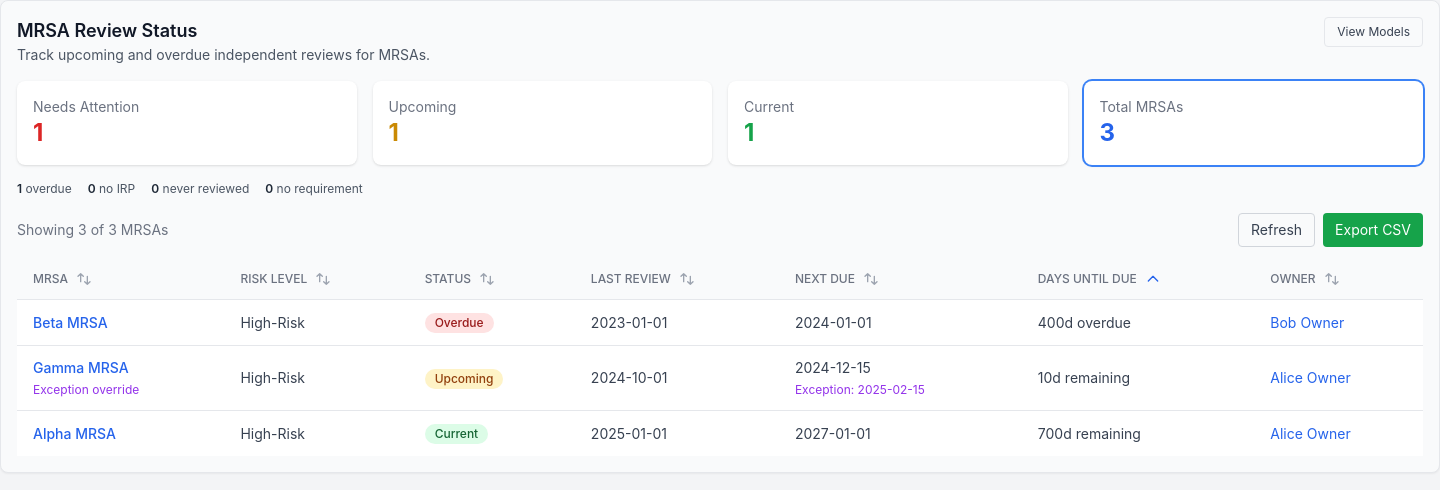
MRSAReviewDashboardWidget › filters to upcoming items
Expected: the link "Beta MRSA" is shown, 33,314 -> 108,330
Click the button "Upcoming 1" at [422, 106], box 372,81 -> 712,165
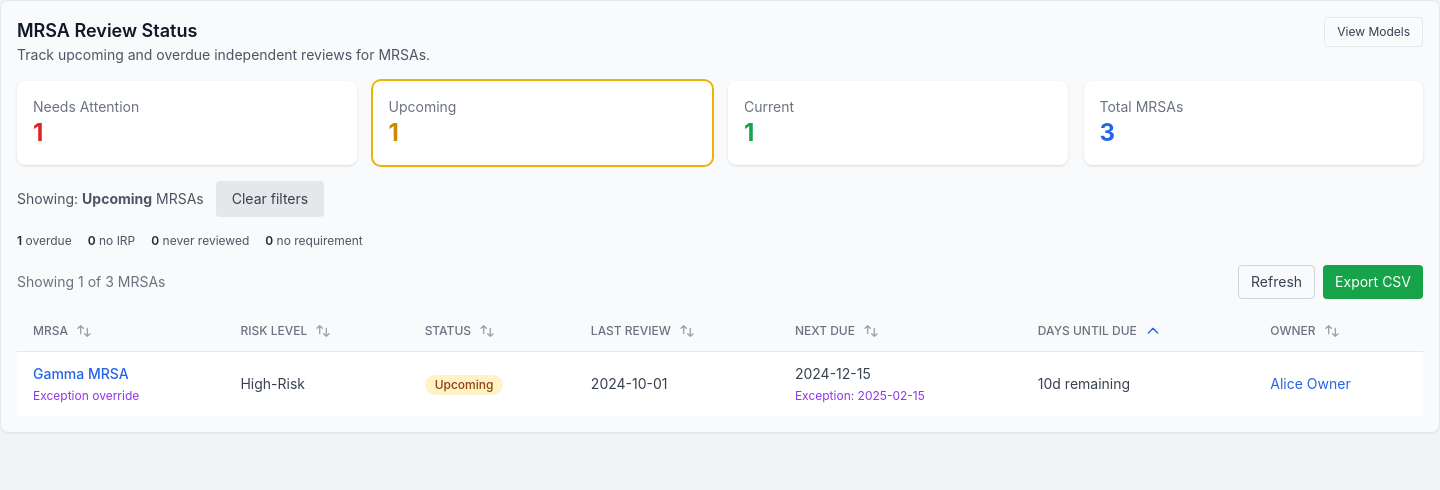
Expected: the link "Gamma MRSA" is shown, 33,365 -> 129,382
Expected: the link "Beta MRSA" is gone
